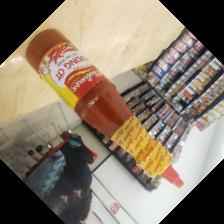Tuong: (24, 27, 187, 191)
